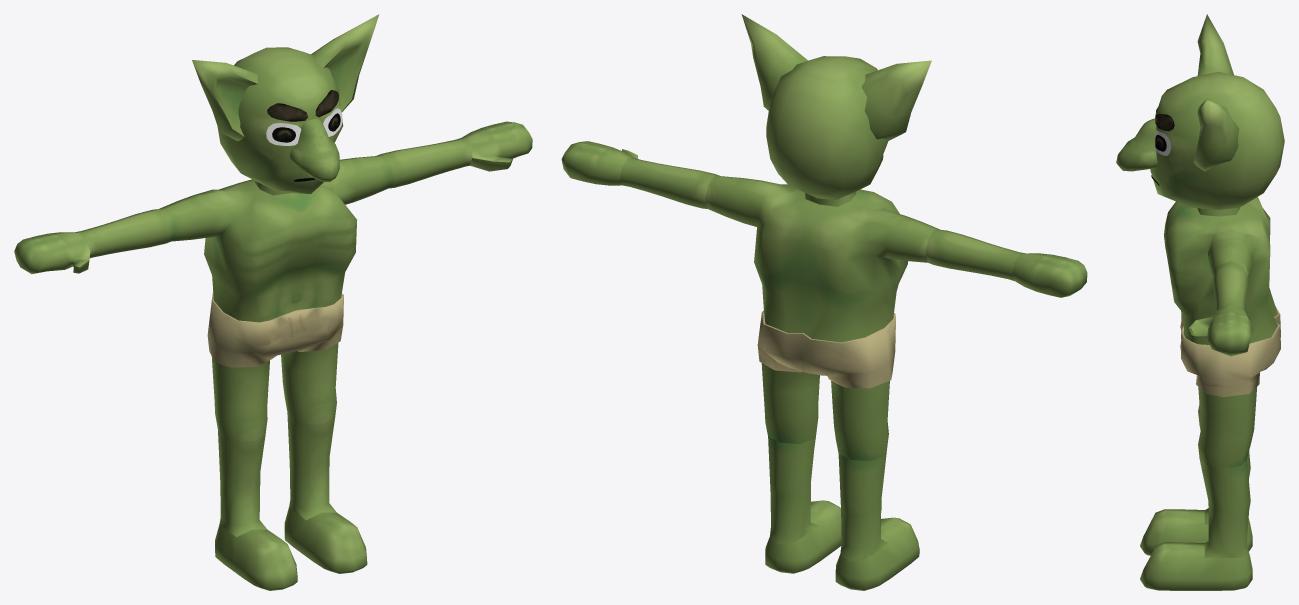
The model's file is Gobblo.fbx.
The picture shows the model from 3 angles, left to right: view 1: azimuth 30°, elevation 25°; view 2: azimuth 150°, elevation 25°; view 3: azimuth 270°, elevation 25°; orthographic projection. The views are drawn at different scales.
Visible parts, largest first — view 1: Cube.001; view 2: Cube.001; view 3: Cube.001.
Part boxes in pixels (x1,y1,x2,y2): Cube.001: [14, 14, 532, 590]; Cube.001: [561, 14, 1087, 590]; Cube.001: [1116, 14, 1284, 590].
Size of the model in its own units: 214 by 723 by 712.
